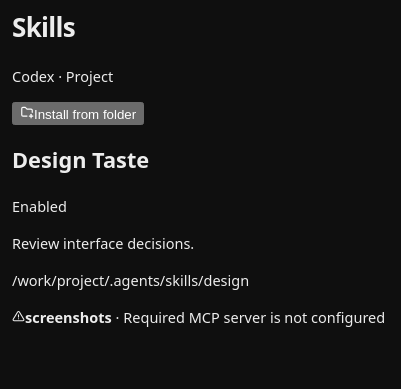
it: Agent Skills settings › reports a rejected folder picker without starting an install
Later steps or results of the test are not shown.
Click the button "Install from folder": (78,114) [12,102,144,125]
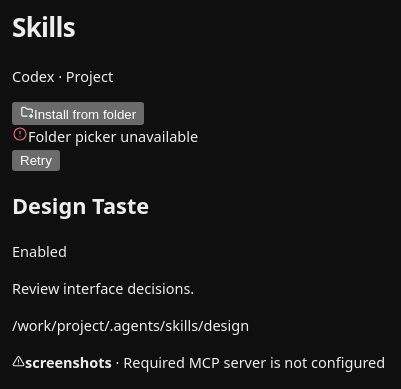
Now the message shows "Folder picker unavailable", box [28,126,198,146]
